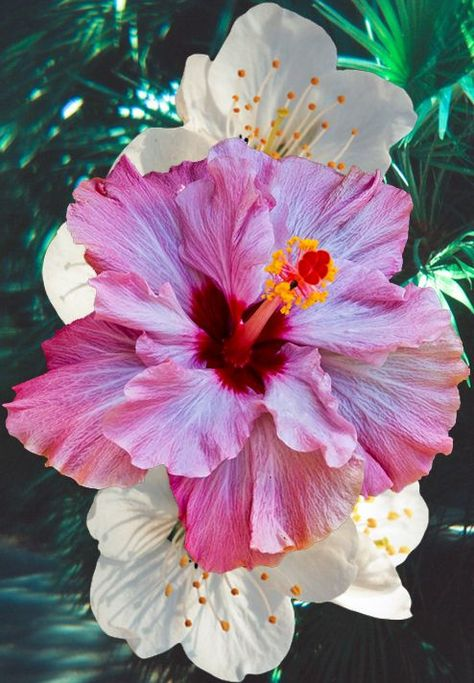Hibiscus: (2, 151, 466, 533), (41, 485, 461, 679), (128, 4, 428, 165)
